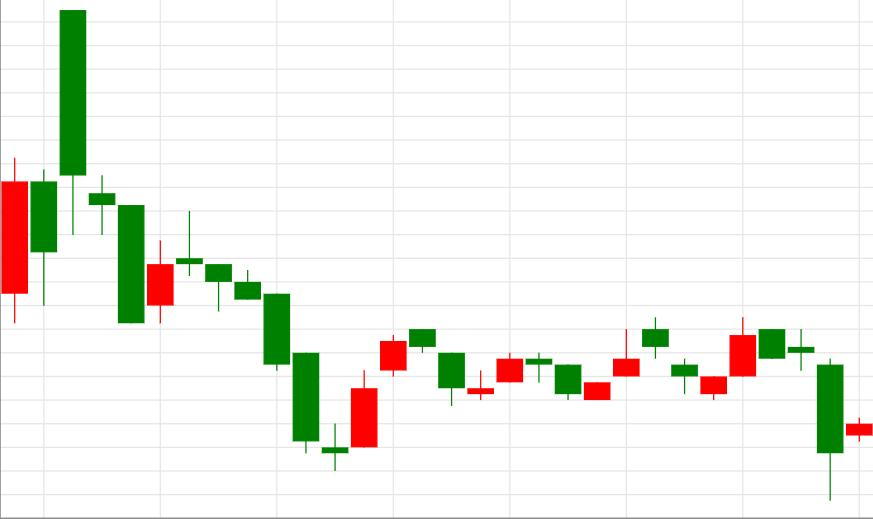morning_star_rise: (59, 10, 378, 469)
